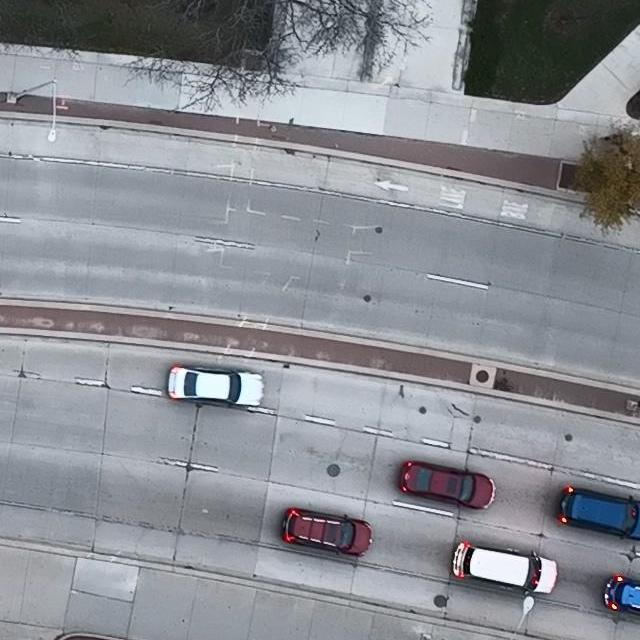car: (452, 541, 557, 595), (400, 461, 496, 511), (280, 507, 372, 558), (559, 486, 640, 541), (167, 364, 264, 408), (603, 575, 640, 616)
